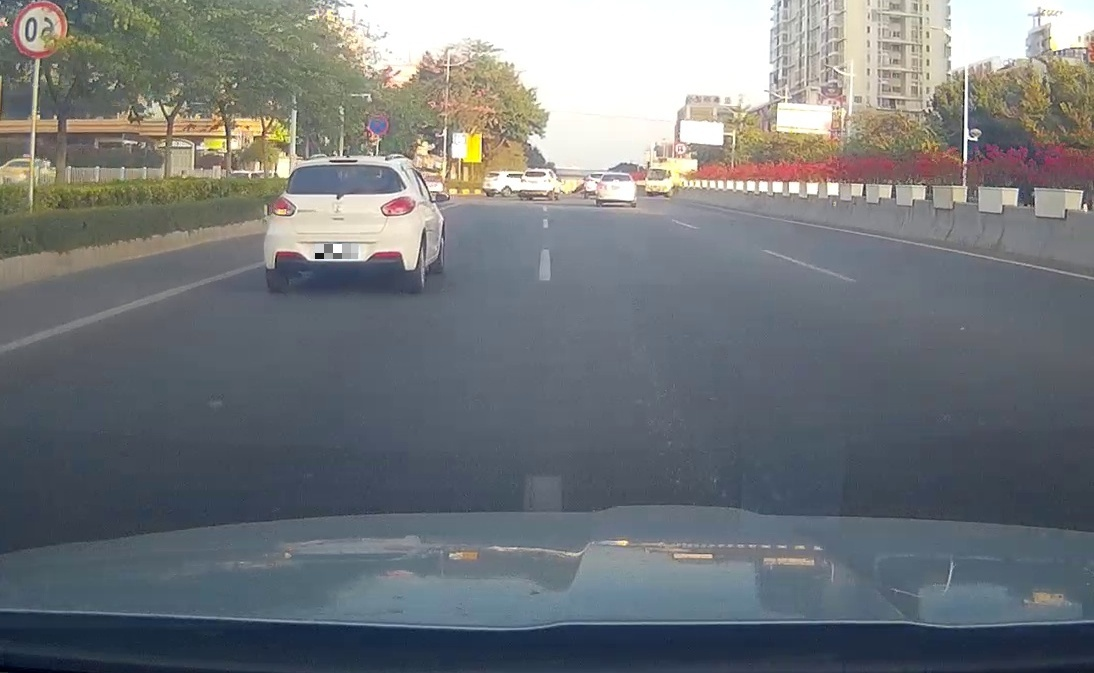L_light: (271, 196, 297, 217)
R_light: (380, 196, 416, 217)
T_light: (329, 159, 358, 165)
day-left: (262, 154, 420, 293)
plate_1: (315, 244, 358, 259)
